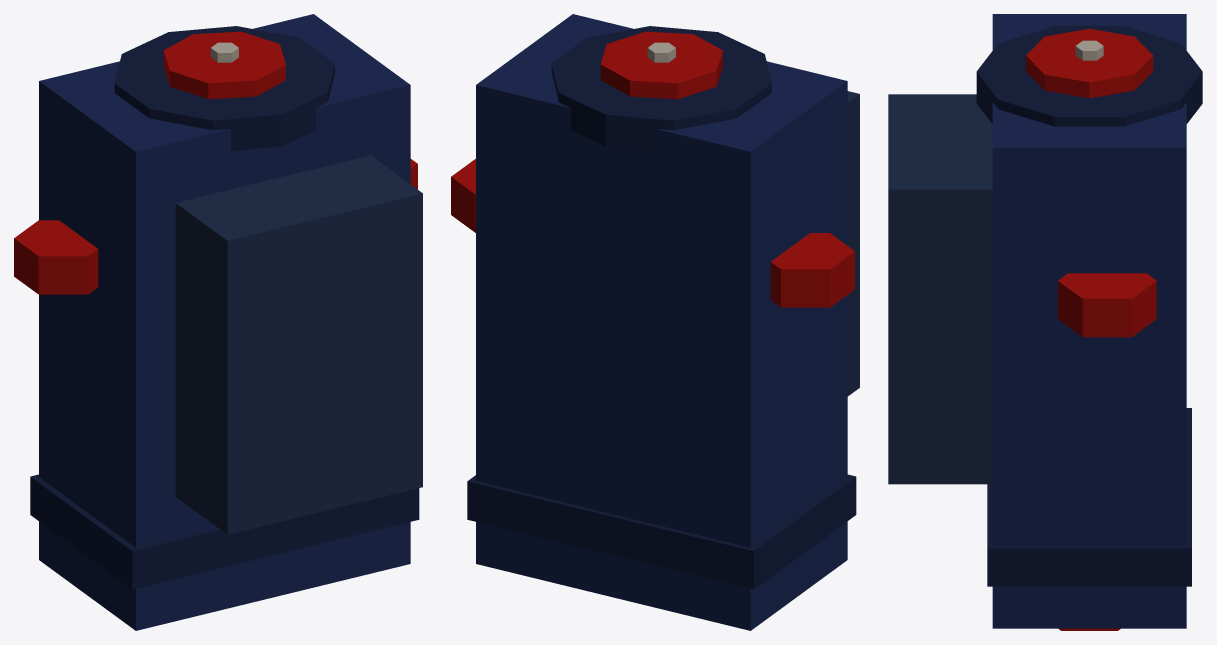
File: american_torso.glb
The picture shows the model from 3 angles, left to right: view 1: azimuth 30°, elevation 25°; view 2: azimuth 150°, elevation 25°; view 3: azimuth 270°, elevation 25°; orthographic projection.
Visible parts, largest first — view 1: american_torso; view 2: american_torso; view 3: american_torso.
Part boxes in pixels (bbox=[...]): american_torso: bbox=[14, 14, 422, 630]; american_torso: bbox=[451, 14, 859, 630]; american_torso: bbox=[888, 14, 1202, 630].
Bounding box in the file's own units: 1.24 × 1.66 × 0.89.
